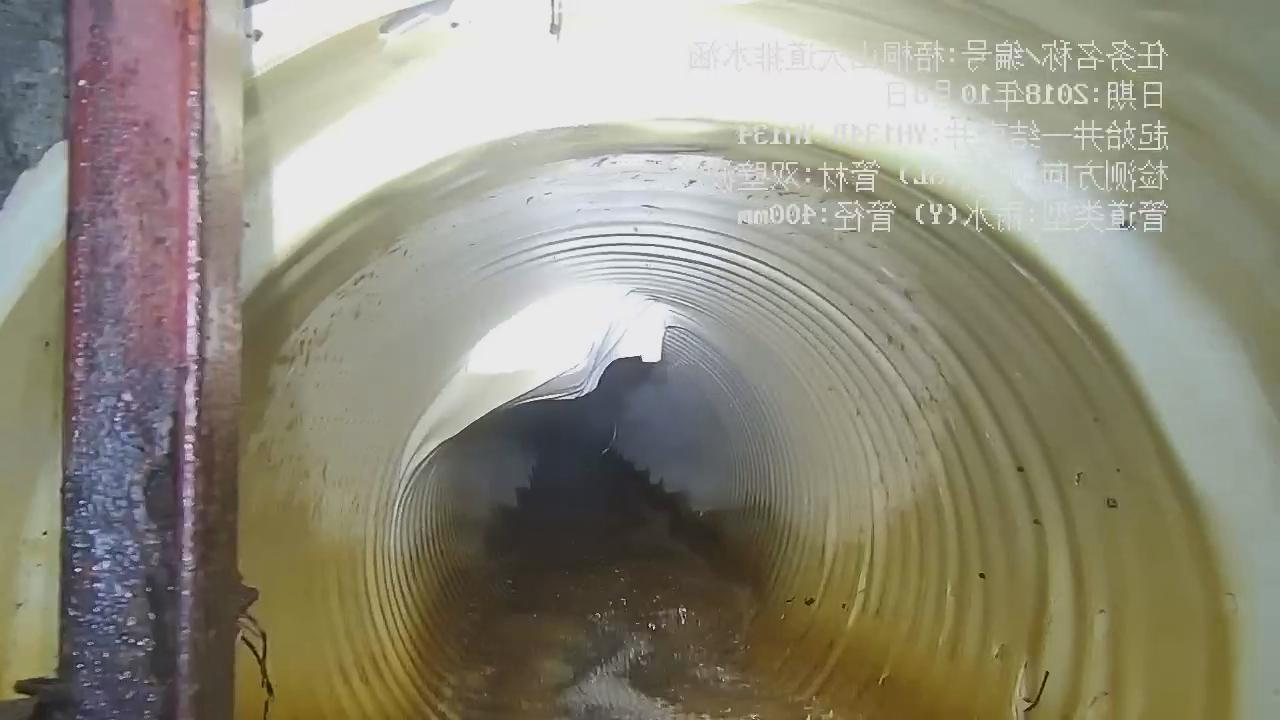BX: (402, 281, 683, 489)
